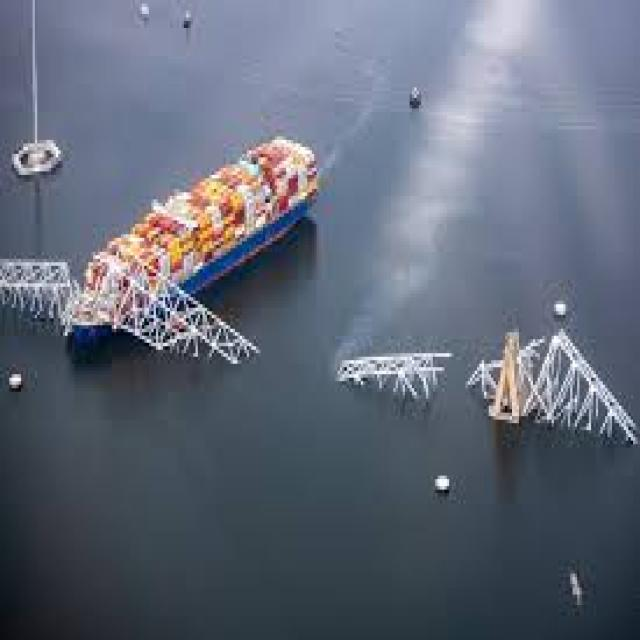bridge collapse: (3, 203, 600, 530)
